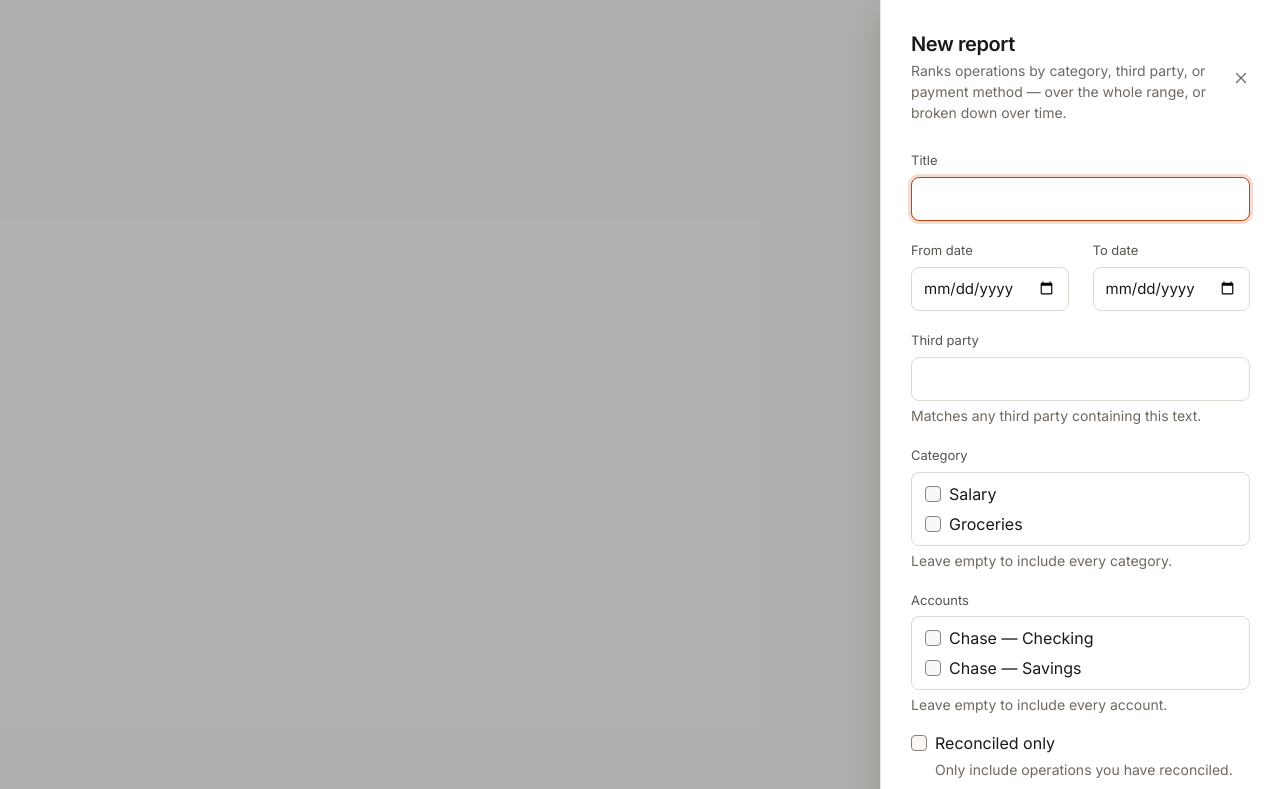
Test: ReportForm › explains an out-of-range number of results instead of just turning the field red
The image size is (1280, 789).
Type "Spending" into the field with id "report-title" at (1080, 199), box [911, 176, 1250, 221]
(page scrolled)
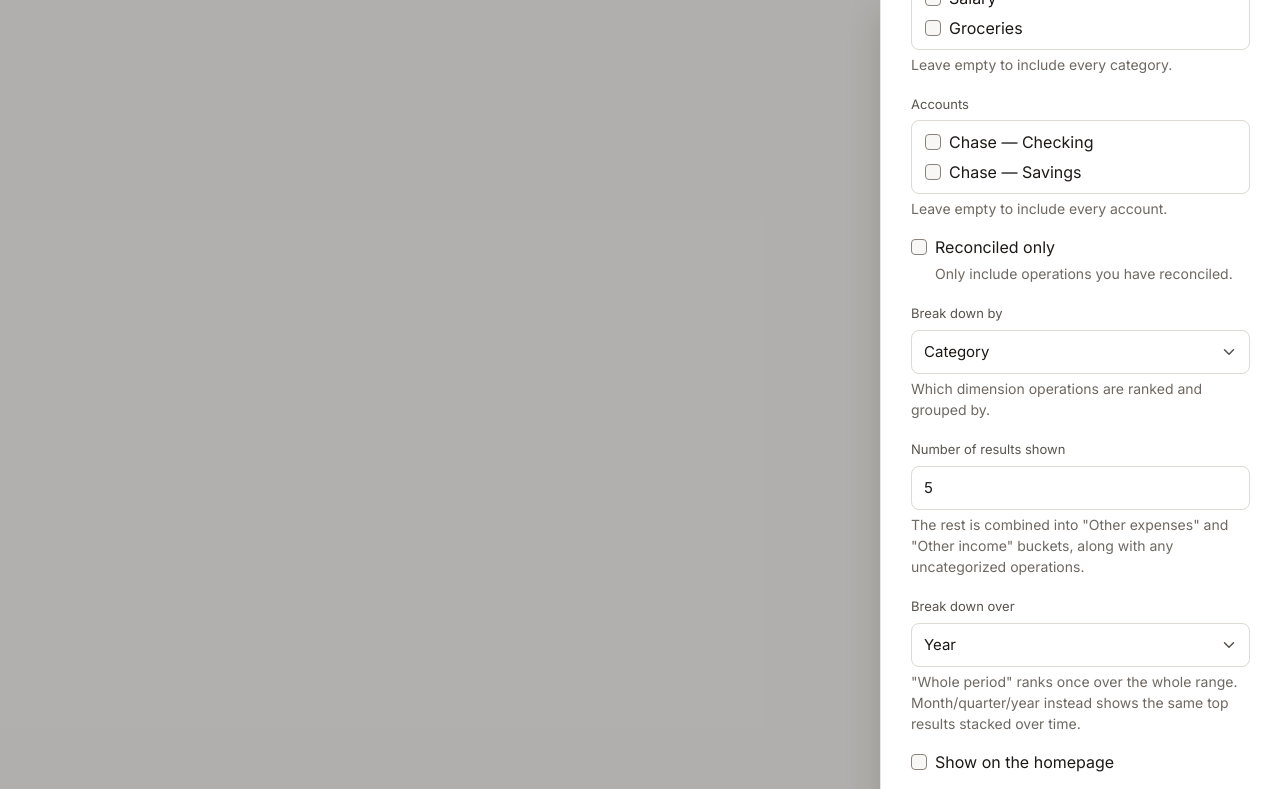
Replace the text in the number field with id "report-significant-results-number" with "99" at (1080, 488), box [911, 466, 1250, 510]
(page scrolled)
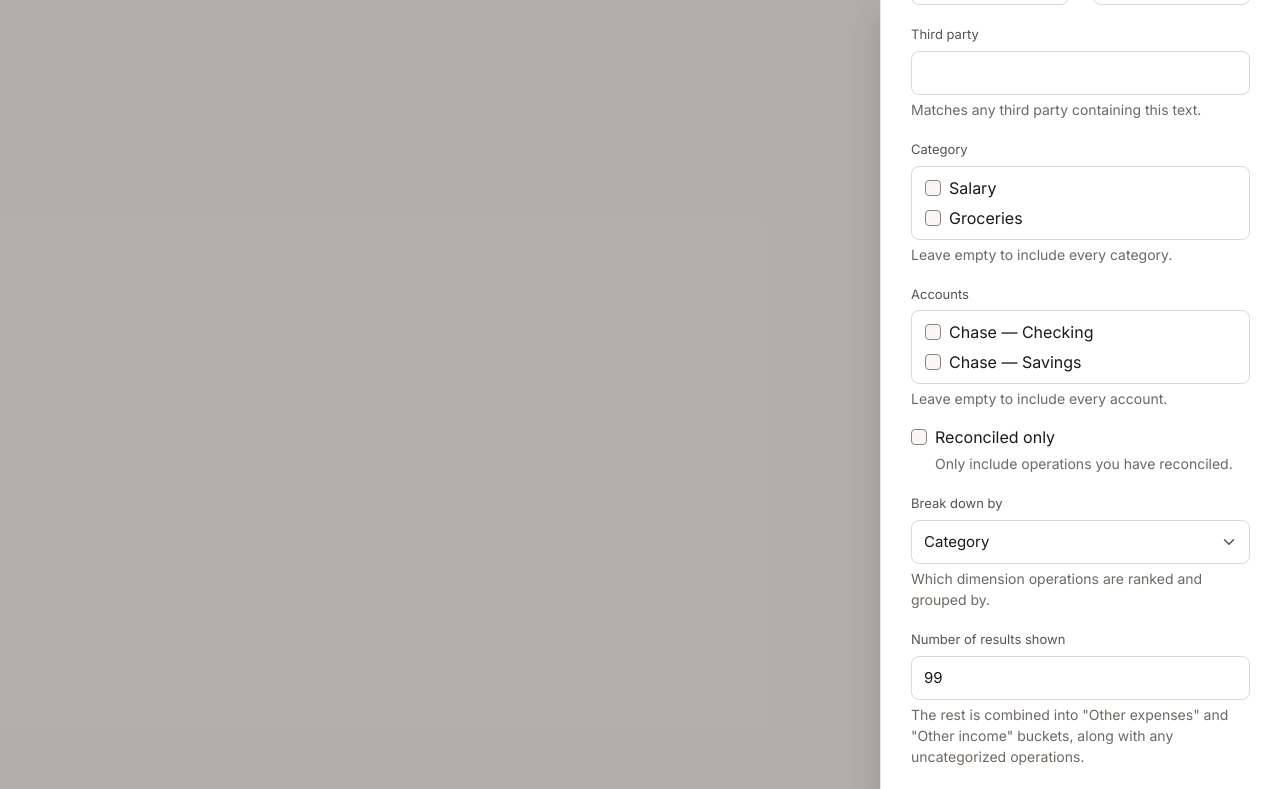
Submit the form
(page scrolled)
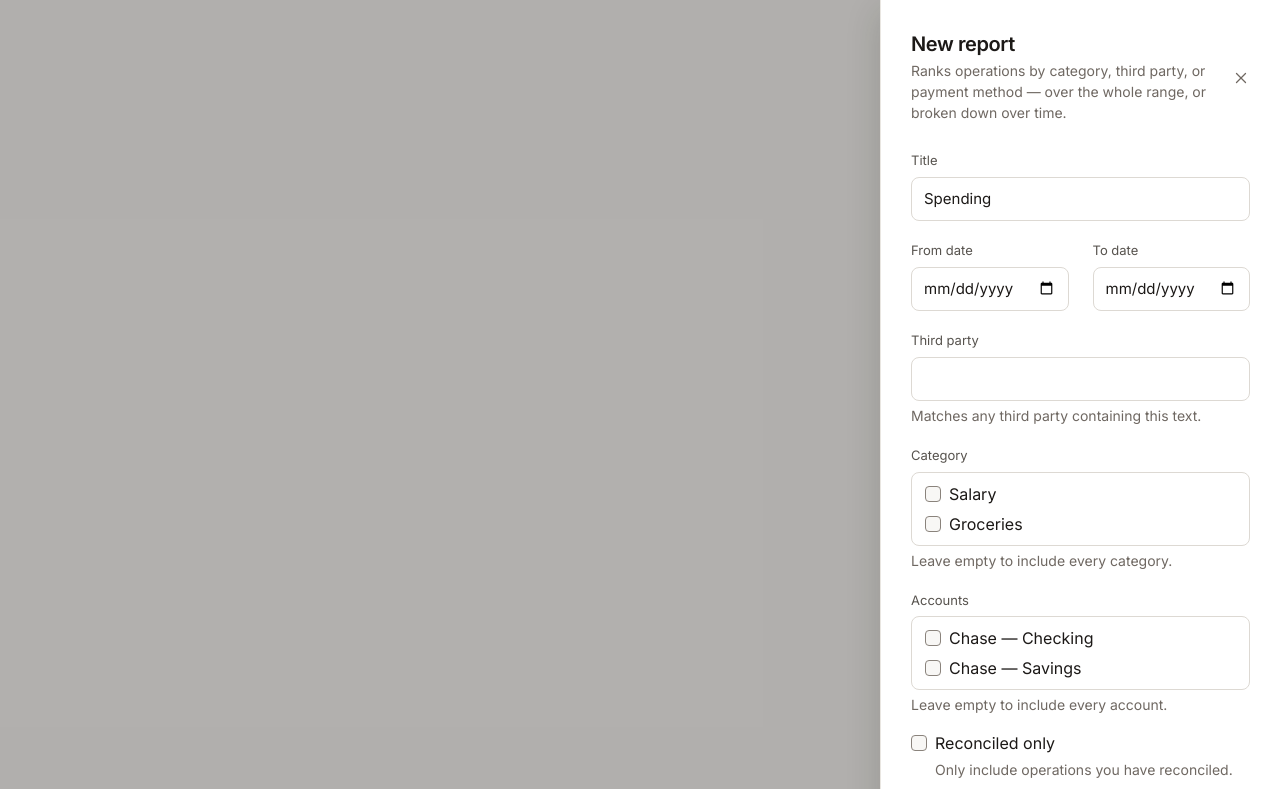
Expected: the 1st text with class "form-text" is shown, [911, 60, 1232, 123]
